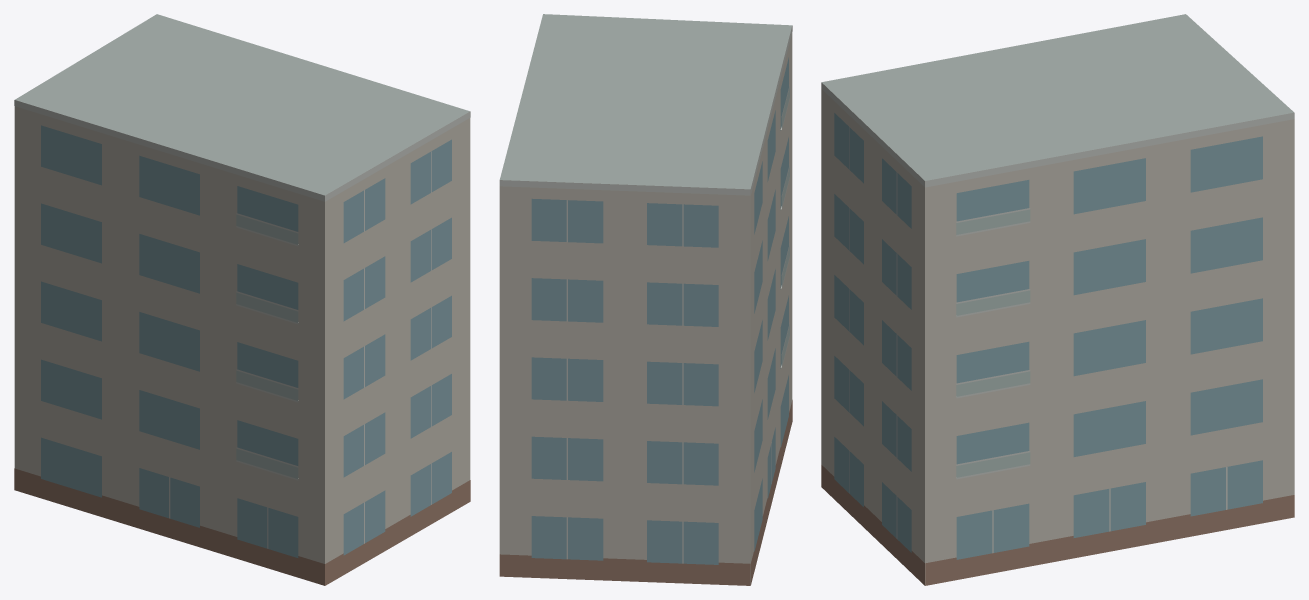
Rendered from residential-73f48ae0-81c8-4acd-af79-e35fa3d31041.glb.
3 renders of one model, left to right at view 1: azimuth 30°, elevation 25°; view 2: azimuth 150°, elevation 25°; view 3: azimuth 270°, elevation 25°, orthographic. The views are drawn at different scales.
Visible parts, largest first — view 1: residential-73f48ae0-81c8-4acd-af79-e35fa3d31041.tmp; view 2: residential-73f48ae0-81c8-4acd-af79-e35fa3d31041.tmp; view 3: residential-73f48ae0-81c8-4acd-af79-e35fa3d31041.tmp.
Part boxes in pixels (x1,y1,x2,y2): residential-73f48ae0-81c8-4acd-af79-e35fa3d31041.tmp: (14, 14, 470, 585); residential-73f48ae0-81c8-4acd-af79-e35fa3d31041.tmp: (499, 14, 792, 585); residential-73f48ae0-81c8-4acd-af79-e35fa3d31041.tmp: (821, 14, 1294, 585).
Bounding box in the file's own units: 13.51 × 15.25 × 16.16.
